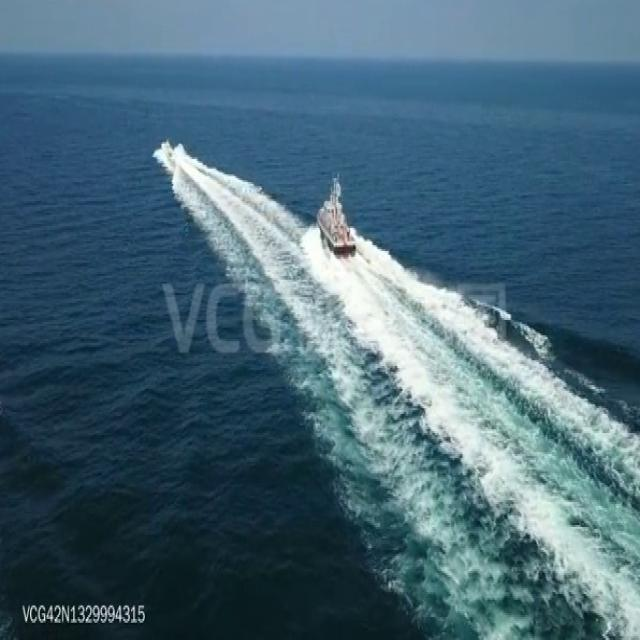houseboat: (159, 134, 174, 168)
navalvessels: (314, 172, 359, 254)
